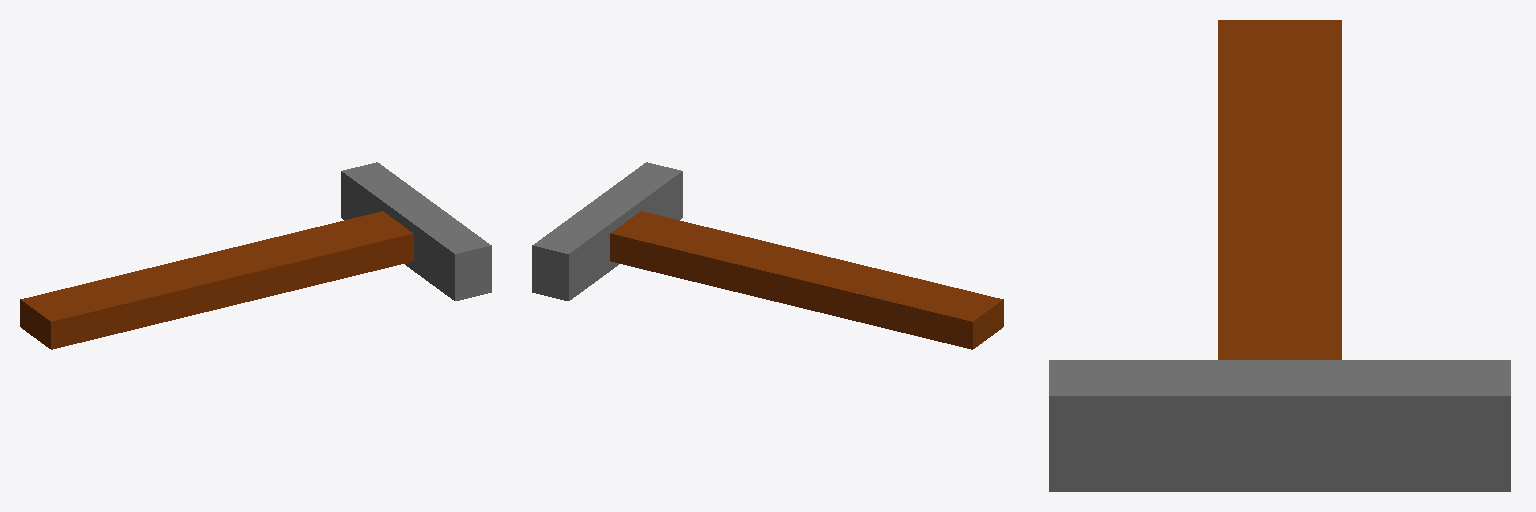
The robot description file, URDF, robot "handle_head":
<?xml version="1.0"?>
<robot name="handle_head">

  <link name="handle_head">
    <!-- Handle -->
    <visual>
              <origin xyz="0 0 0" rpy="0 0 0"/>
        <geometry>
          <box size="0.20466915350616863 0.029982607289518907 0.015113146431799552"/>
        </geometry>
        
      <material name="brown">
        <color rgba="0.55 0.27 0.07 1.0"/>
      </material>
    </visual>
    <collision>
              <origin xyz="0 0 0" rpy="0 0 0"/>
        <geometry>
          <box size="0.20466915350616863 0.029982607289518907 0.015113146431799552"/>
        </geometry>
        
    </collision>

    <!-- Head -->
    <visual>
              <origin xyz="0.11260101699837868 0 0" rpy="0 0 0"/>
        <geometry>
          <box size="0.020532880490588747 0.11140548452210107 0.02550107277873193"/>
        </geometry>
        
      <material name="gray">
        <color rgba="0.5 0.5 0.5 1.0"/>
      </material>
    </visual>
    <collision>
              <origin xyz="0.11260101699837868 0 0" rpy="0 0 0"/>
        <geometry>
          <box size="0.020532880490588747 0.11140548452210107 0.02550107277873193"/>
        </geometry>
        
    </collision>

    <inertial>
      <origin xyz="0.06825718718994597 0 0" rpy="0 0 0"/>
      <mass value="0.09299015167357873"/>
      <inertia ixx="6.479604096624742e-05" iyy="0.0004150289261203716" izz="0.00047232134896116367" ixy="0" ixz="0" iyz="0"/>
    </inertial>
  </link>

</robot>

--- Render facts (derived) ---
Views: 3 orthographic renders of the robot side by side, from view 1: azimuth 30°, elevation 25°; view 2: azimuth 150°, elevation 25°; view 3: azimuth 270°, elevation 25°.
Model handle_head with 1 links and 0 joints (none), rooted at handle_head, posed all joints at 0.
Links seen in each view (by area): view 1: handle_head; view 2: handle_head; view 3: handle_head.
Link boxes in pixels (x1,y1,x2,y2): handle_head: [20, 162, 491, 349]; handle_head: [532, 162, 1003, 349]; handle_head: [1049, 20, 1510, 491].
Bounding box of the posed robot: 0.2252 × 0.1114 × 0.0255 m (x, y, z).
Geometry: primitives only (box / cylinder / sphere), no mesh files.
